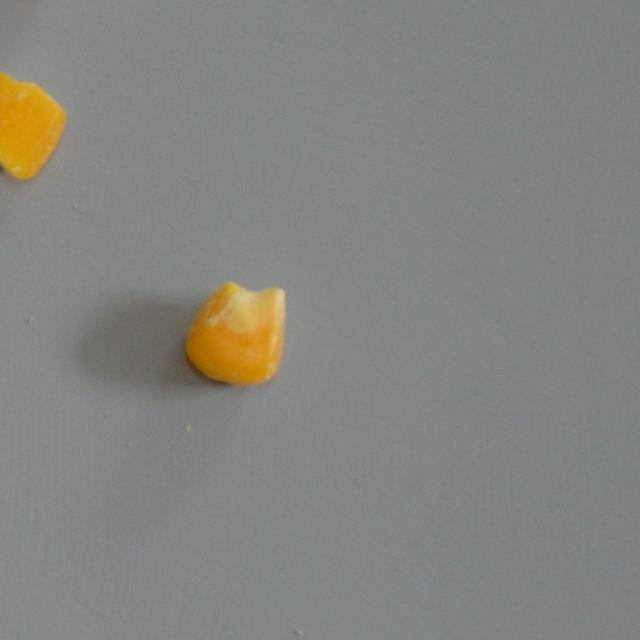no_canjicado: (0, 68, 66, 182)
pelicula: (184, 277, 286, 386)
